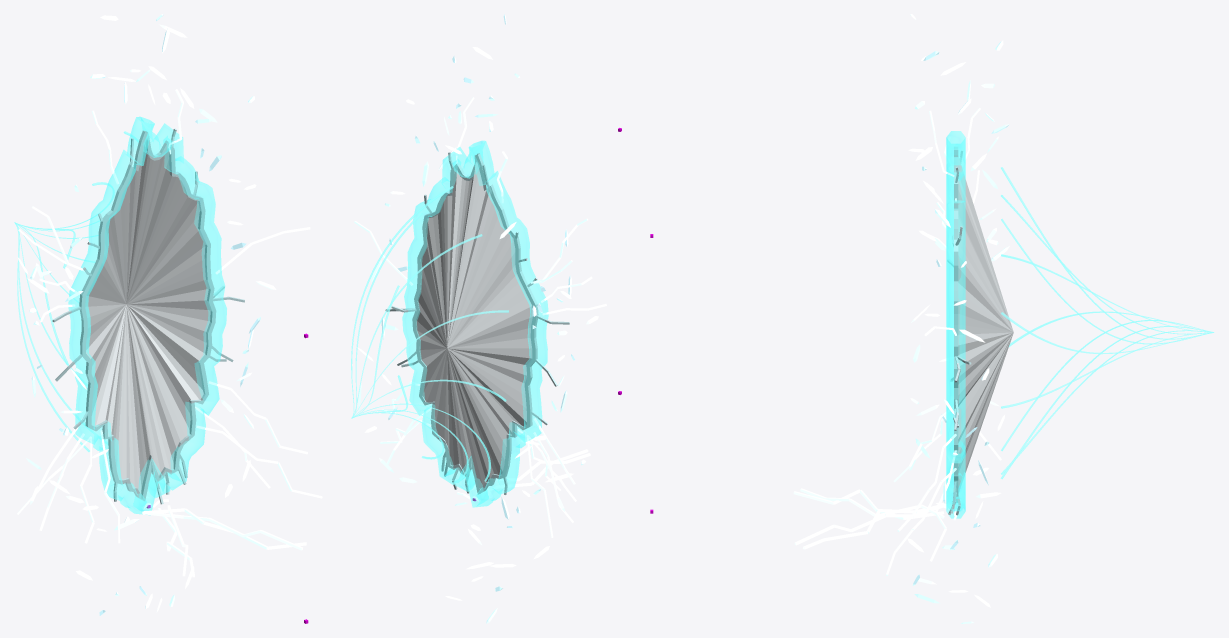
Rendered from RiftUltimate.fbx.
3 renders of one model, left to right at view 1: azimuth 30°, elevation 25°; view 2: azimuth 150°, elevation 25°; view 3: azimuth 270°, elevation 25°, orthographic. The views are drawn at different scales.
Visible parts, largest first — view 1: Abyss, Glow, Edge, Cracks, Shards, Depth; view 2: Abyss, Glow, Edge, Cracks, Depth, Shards; view 3: Abyss, Glow, Depth, Cracks, Shards, Edge.
Part boxes in pixels (x1,y1,x2,y2): Abyss: (85,140,210,493); Glow: (68,116,226,515); Edge: (52,128,244,504); Cracks: (17,89,322,577); Shards: (17,14,276,615); Depth: (14,131,138,452); Abyss: (416,162,532,488); Glow: (402,140,548,507); Edge: (385,152,569,494); Cracks: (354,97,606,537); Depth: (351,186,508,484); Shards: (357,14,598,623); Abyss: (958,159,1013,489); Glow: (946,131,965,518); Depth: (1000,167,1214,479); Cracks: (793,108,1001,575); Shards: (907,14,1009,623); Edge: (948,147,971,515).
Bounding box in the file's own units: 9.97 × 21.92 × 18.55.
